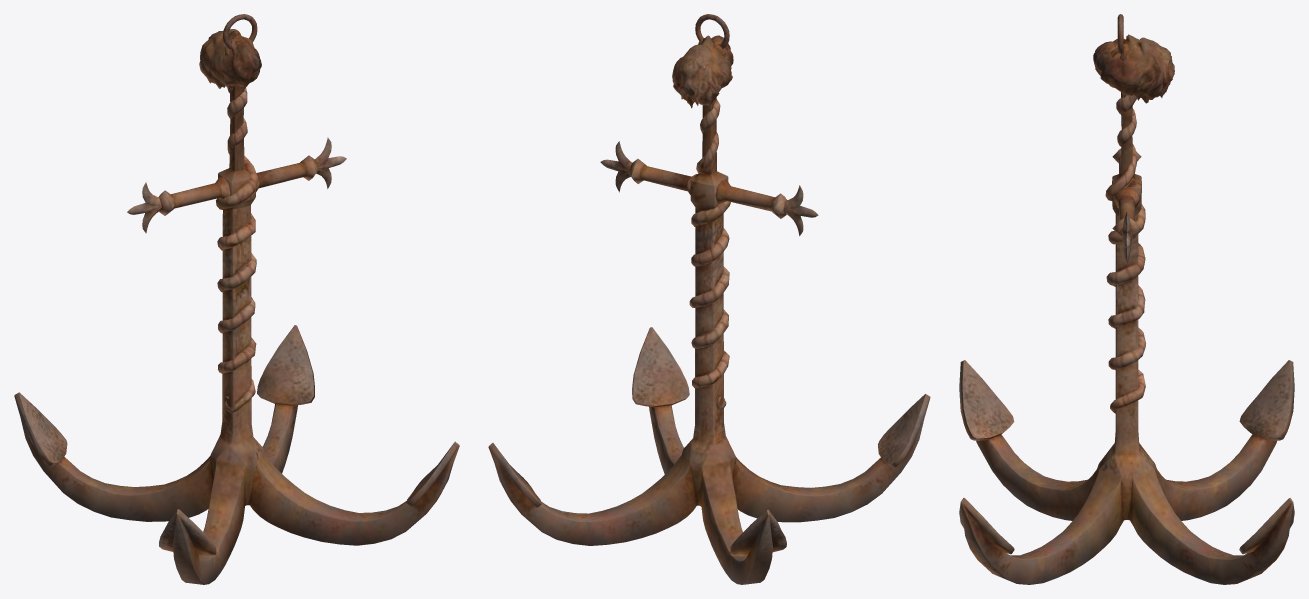
File: weapon-wp_a_0713.glb
3 views of the same model, side by side, from view 1: azimuth 30°, elevation 25°; view 2: azimuth 150°, elevation 25°; view 3: azimuth 270°, elevation 25° (orthographic). The views are drawn at different scales.
Parts seen in each view (by area): view 1: wp_a_0713_mesh; view 2: wp_a_0713_mesh; view 3: wp_a_0713_mesh.
Boxes of the visible parts, left/top/right/bottom form: wp_a_0713_mesh: left=14, top=14, right=459, bottom=584; wp_a_0713_mesh: left=488, top=14, right=930, bottom=584; wp_a_0713_mesh: left=959, top=14, right=1294, bottom=584.
Size of the model in its own units: 0.8767 by 1.52 by 0.8777.
Materials: 1 (1 with a texture image).
